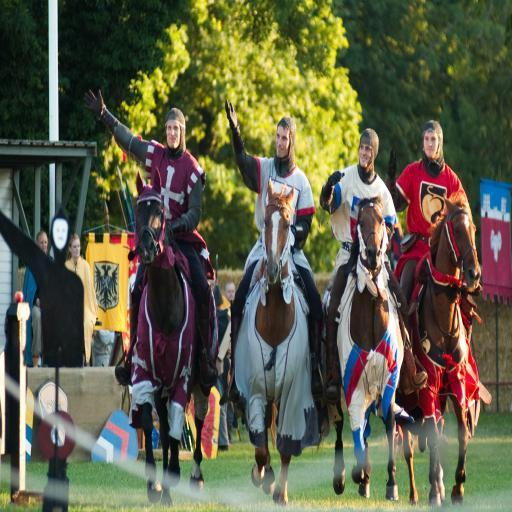Horse: (230, 175, 324, 508), (126, 170, 218, 504), (322, 198, 417, 500), (399, 197, 489, 508)
